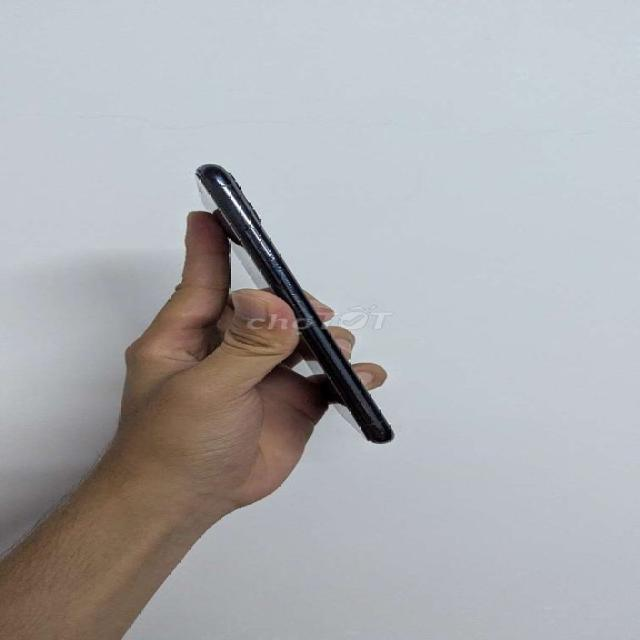gen_11: (197, 164, 393, 442)
